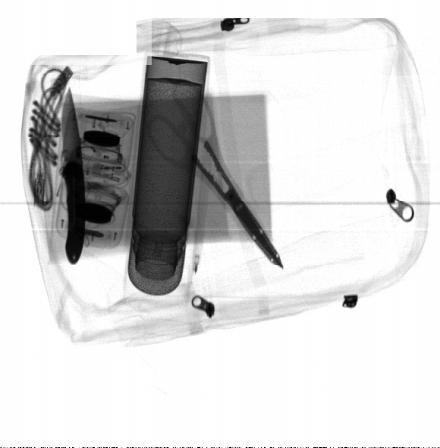Knife: (61, 86, 87, 266)
Scissors: (144, 79, 283, 270)
